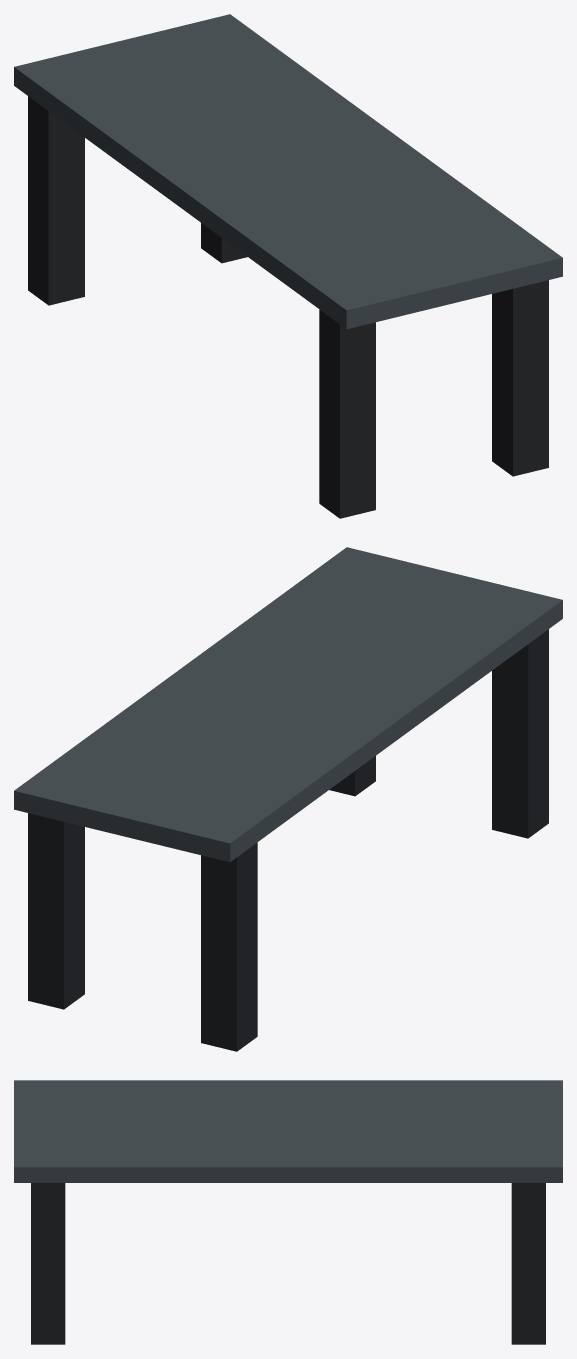
Rendered from escritorio.gltf.
3 renders of one model, top to bottom at view 1: azimuth 30°, elevation 25°; view 2: azimuth 150°, elevation 25°; view 3: azimuth 270°, elevation 25°, orthographic. The views are drawn at different scales.
Parts seen in each view (by area): view 1: cuboid, cube (×4); view 2: cuboid, cube (×4); view 3: cuboid, cube (×2).
Boxes of the visible parts, x1,y1,x2,y2 form: cuboid: [14, 14, 562, 329]; cube (×4): [28, 96, 548, 518]; cuboid: [14, 547, 562, 862]; cube (×4): [28, 629, 548, 1051]; cuboid: [14, 1080, 562, 1182]; cube (×2): [31, 1183, 545, 1344].
Bounding box in the file's own units: 0.75 × 0.7188 × 2.
Materials: 2 (2 with a texture image).
